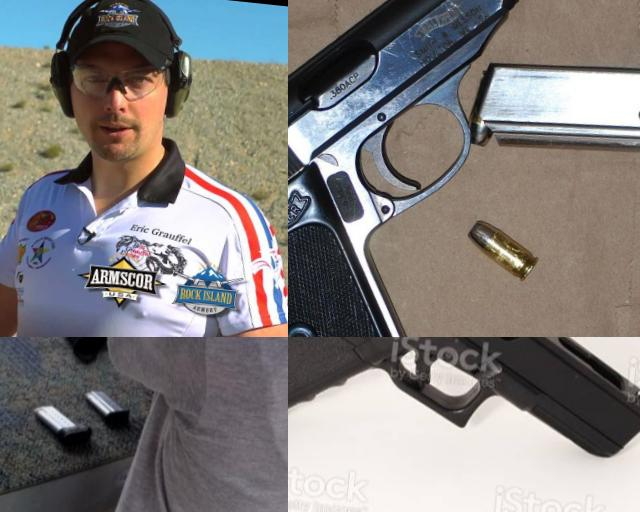handgun: (288, 0, 532, 337), (288, 337, 640, 497), (0, 133, 70, 247), (42, 337, 109, 370)
